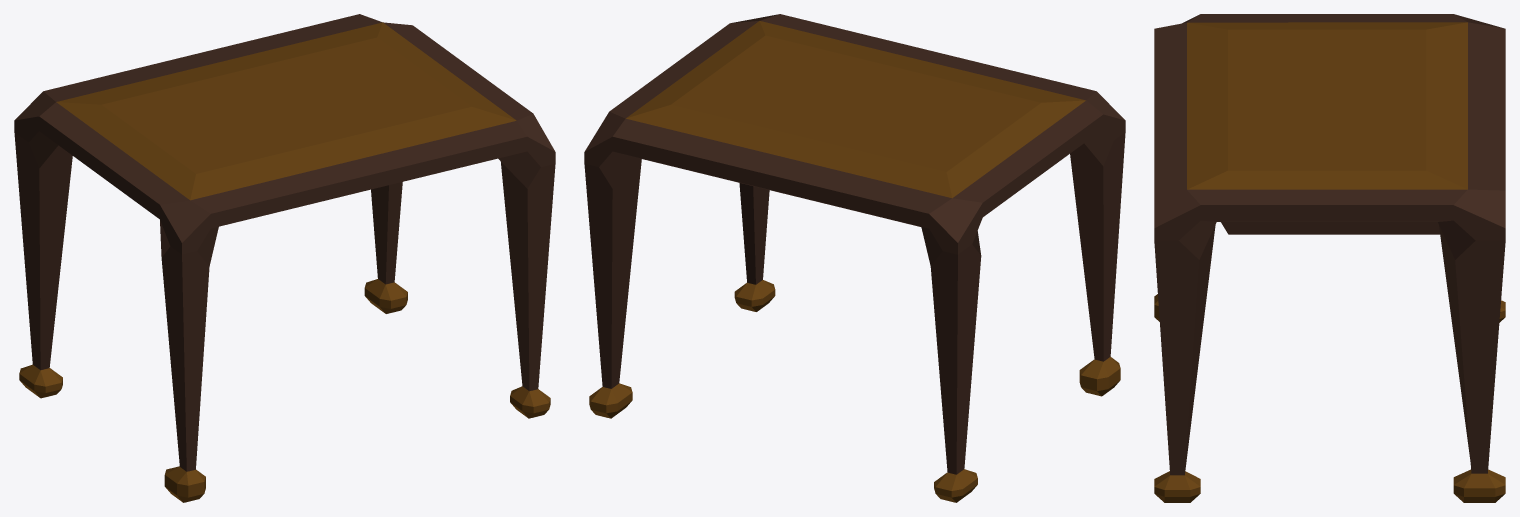
The model's file is Table2.fbx.
3 views of the same model, side by side, from view 1: azimuth 30°, elevation 25°; view 2: azimuth 150°, elevation 25°; view 3: azimuth 270°, elevation 25° (orthographic). The views are drawn at different scales.
Parts seen in each view (by area): view 1: Cube; view 2: Cube; view 3: Cube.
Boxes of the visible parts, left/top/right/bottom form: Cube: left=14, top=14, right=555, bottom=502; Cube: left=584, top=14, right=1125, bottom=502; Cube: left=1154, top=14, right=1505, bottom=502.
Bounding box in the file's own units: 1.29 × 0.9758 × 1.
